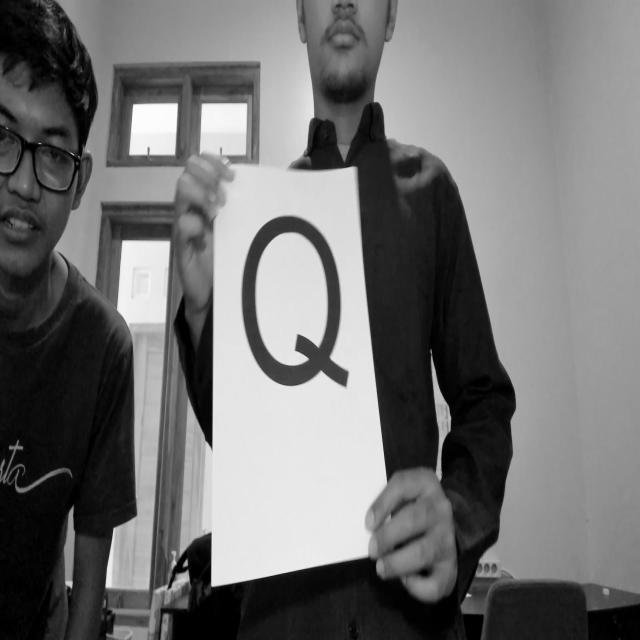q: (218, 200, 364, 447)
